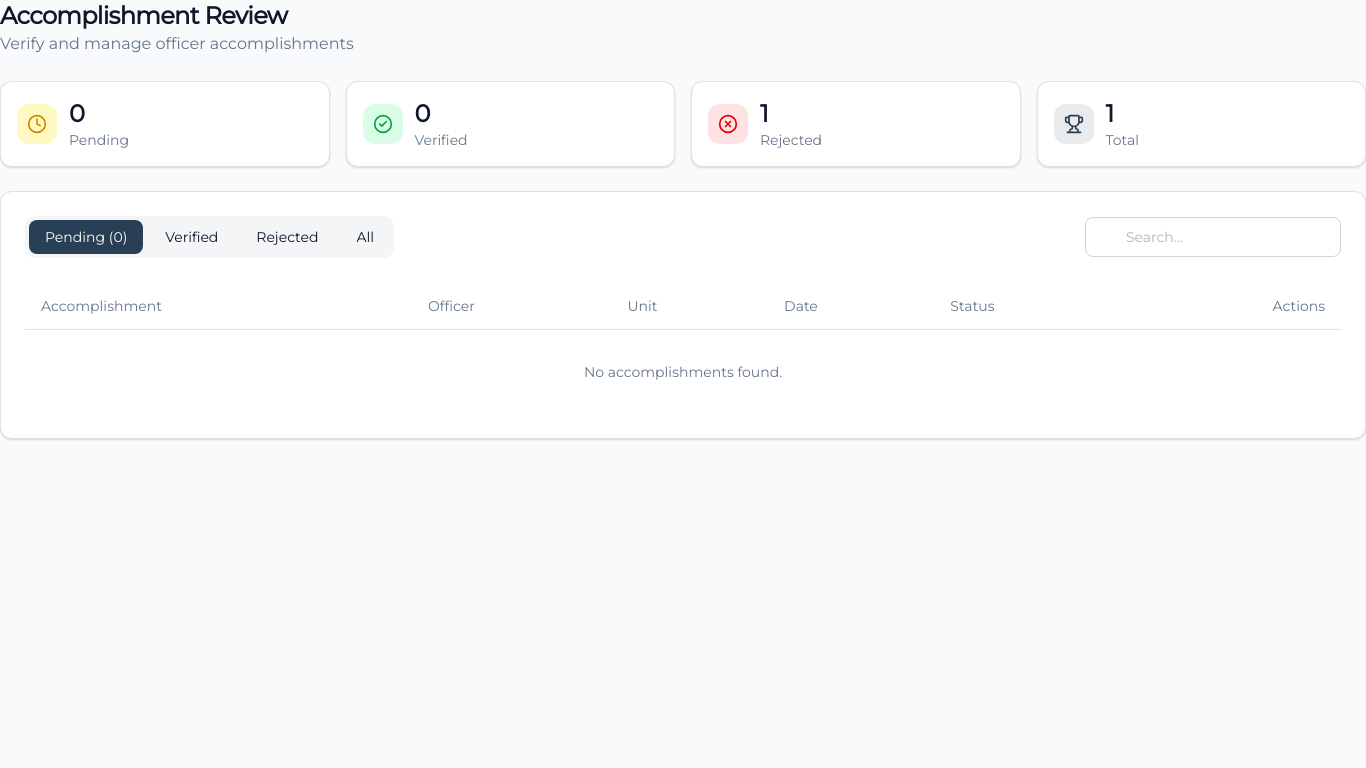
Scenario: Accomplishment Verification Comments (#251) › displays Rejection Reason on rejected accomplishment in Admin review dialog
The image size is (1366, 768).
Click the tab "All".
click(365, 237)  # box [340,220,390,254]
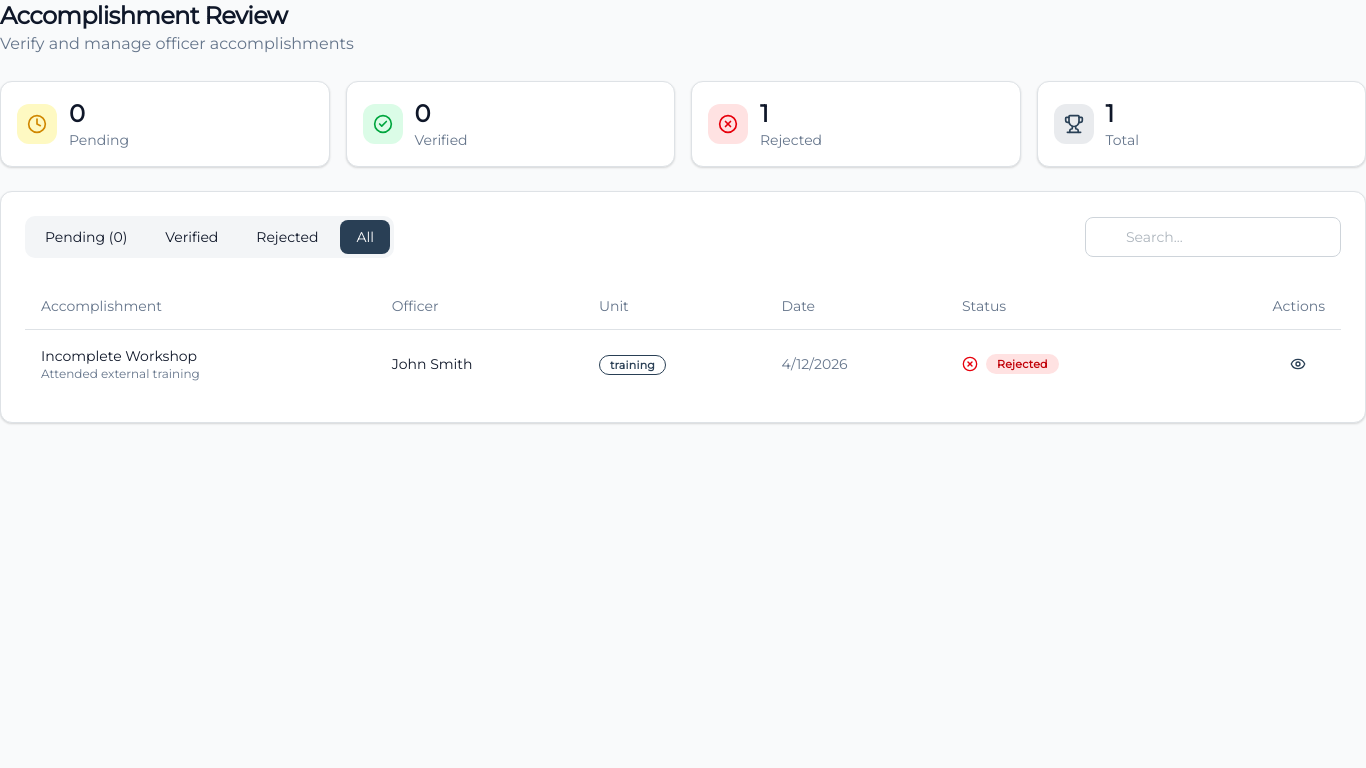
Expected: the button is shown
Click the button.
click(1298, 364)  # box [1271,346,1325,382]
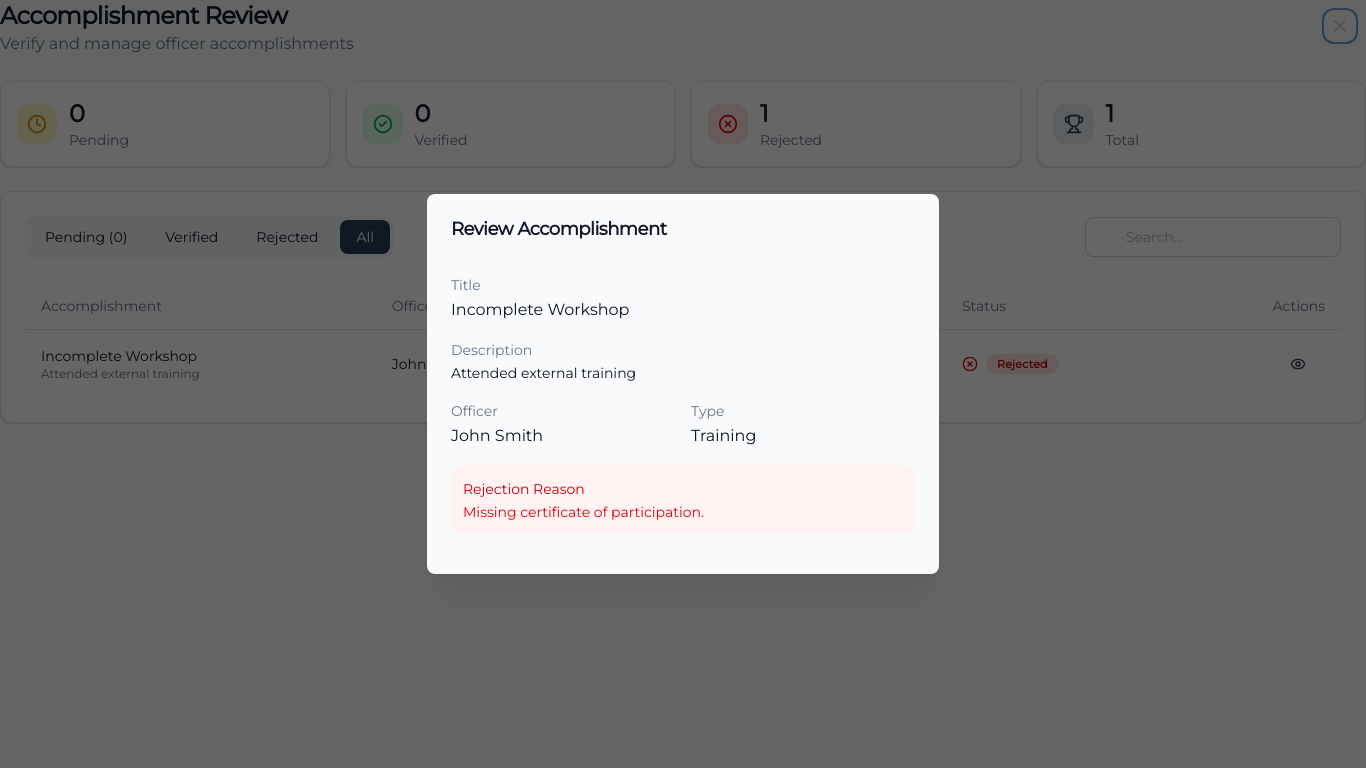
Expected: the text "Rejection Reason" is shown, [463,479,585,499]
Expected: the text "Missing certificate of participation." is shown, [463,503,704,521]
